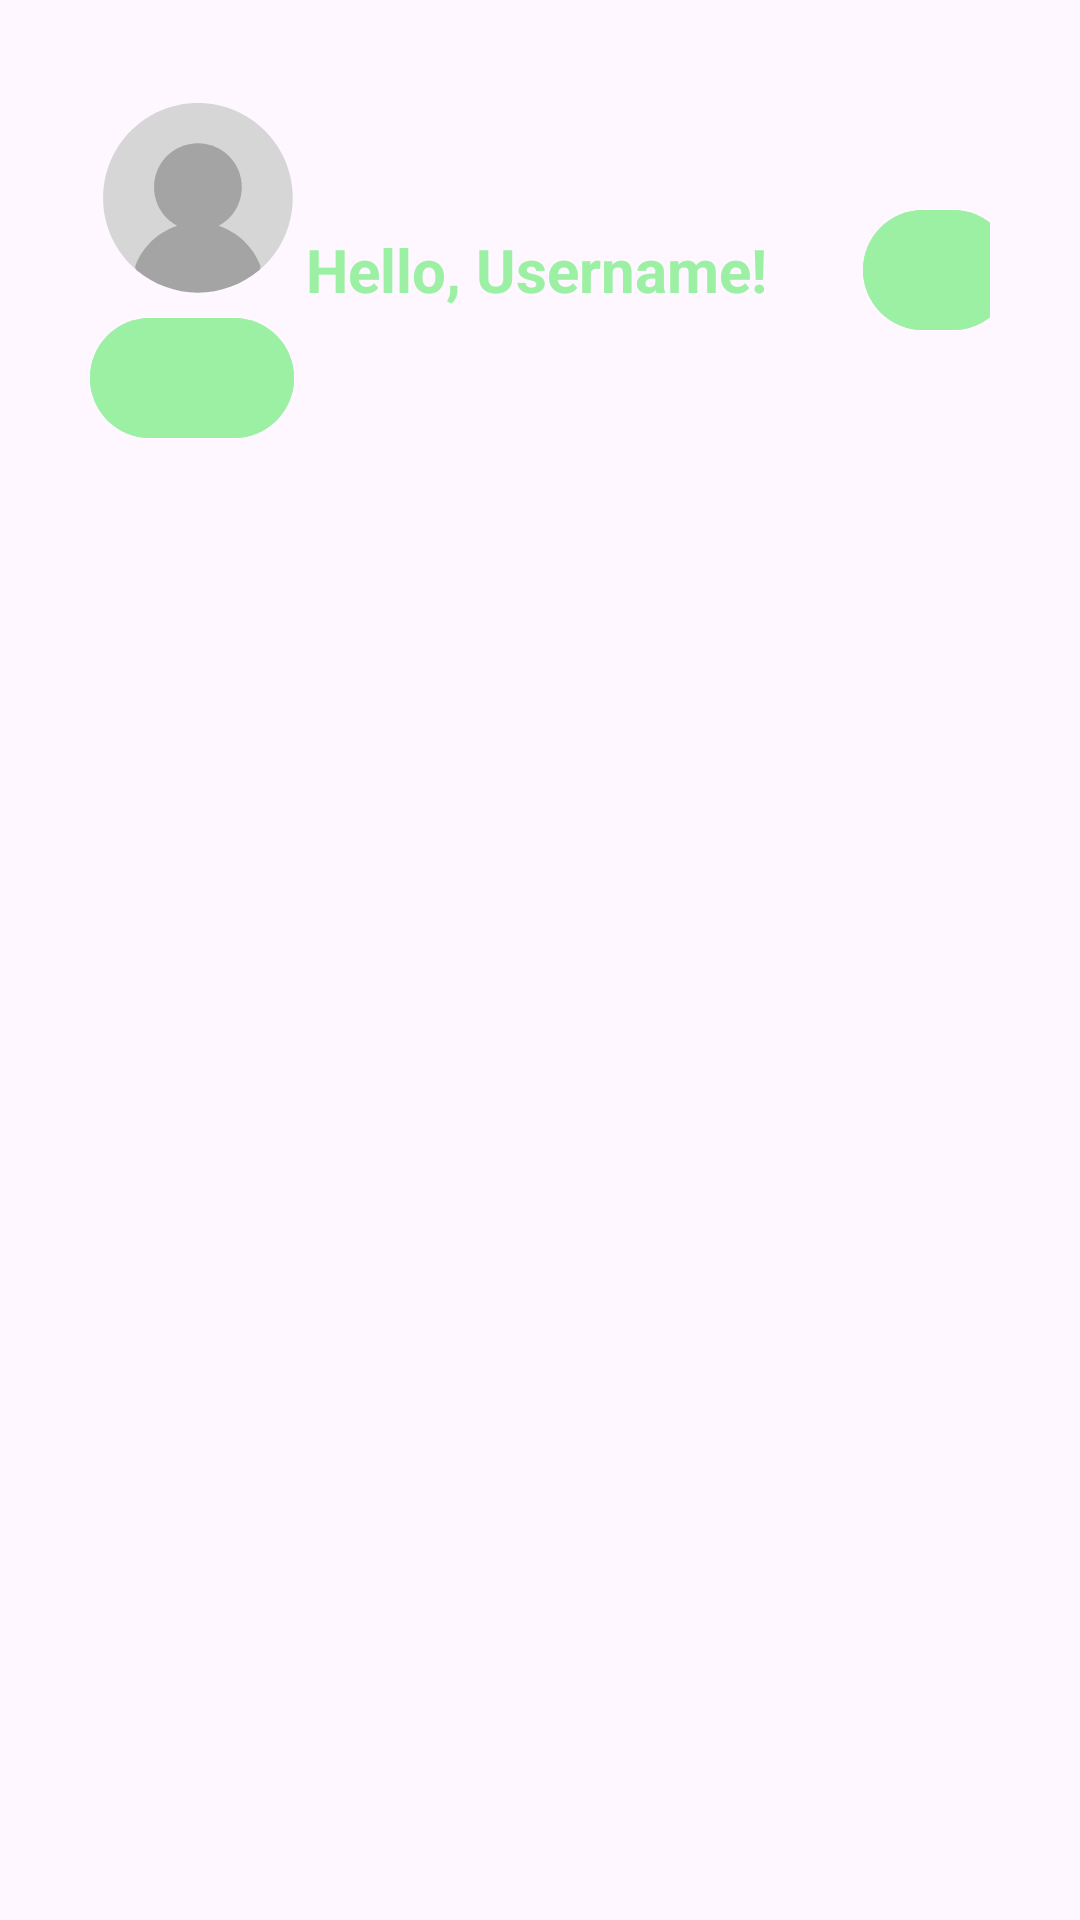

Icon bounding boxes for this 1080*1920 phone screenshot, format (x1, y1, x2, y2):
profile picture: (103, 103, 293, 293)
